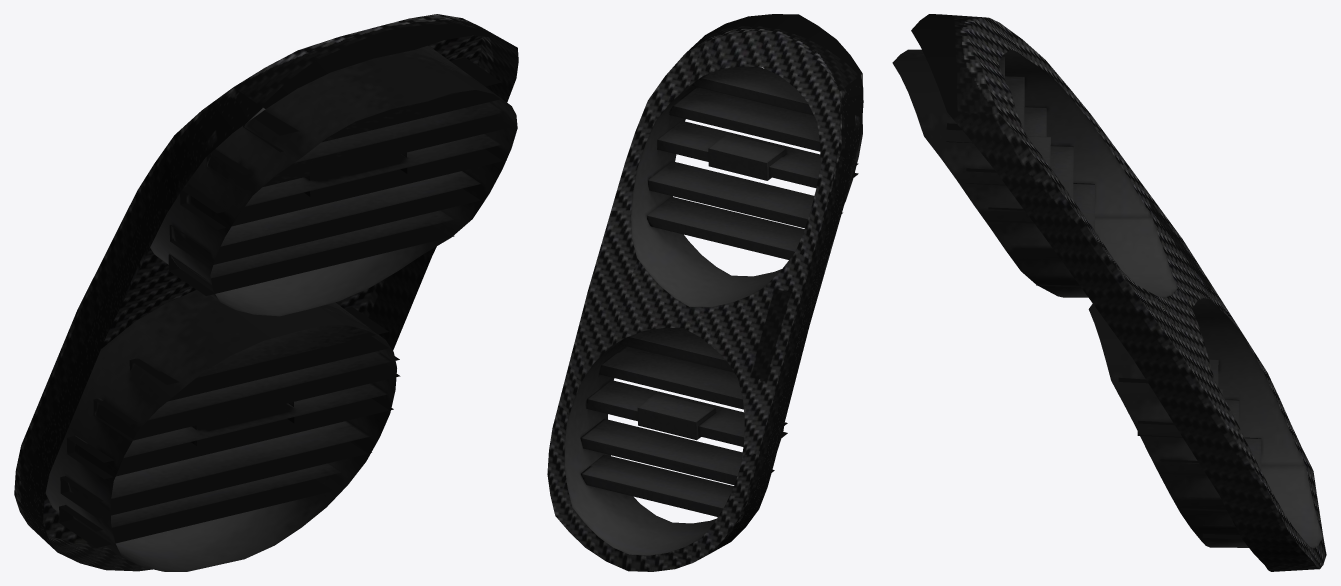
The picture shows the model from 3 angles, left to right: view 1: azimuth 30°, elevation 25°; view 2: azimuth 150°, elevation 25°; view 3: azimuth 270°, elevation 25°; orthographic projection. The views are drawn at different scales.
Visible parts, largest first — view 1: Object523; view 2: Object523; view 3: Object523.
Part boxes in pixels (left/top/right/bottom): Object523: left=14, top=14, right=518, bottom=571; Object523: left=547, top=14, right=863, bottom=571; Object523: left=892, top=14, right=1326, bottom=571.
Size of the model in its own units: 35.81 by 72.9 by 54.47.
